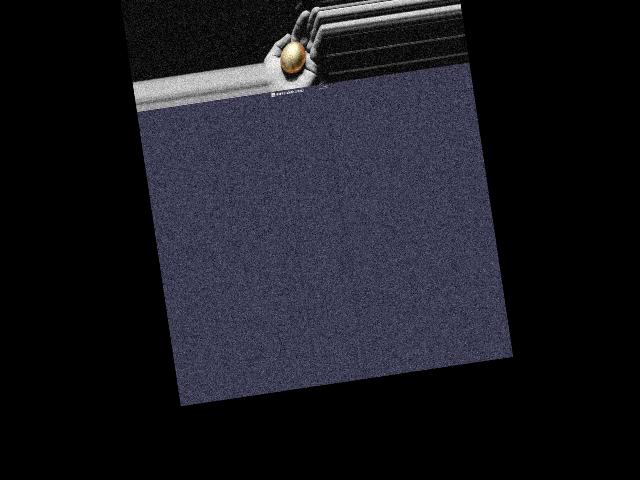egg: (278, 40, 308, 74)
